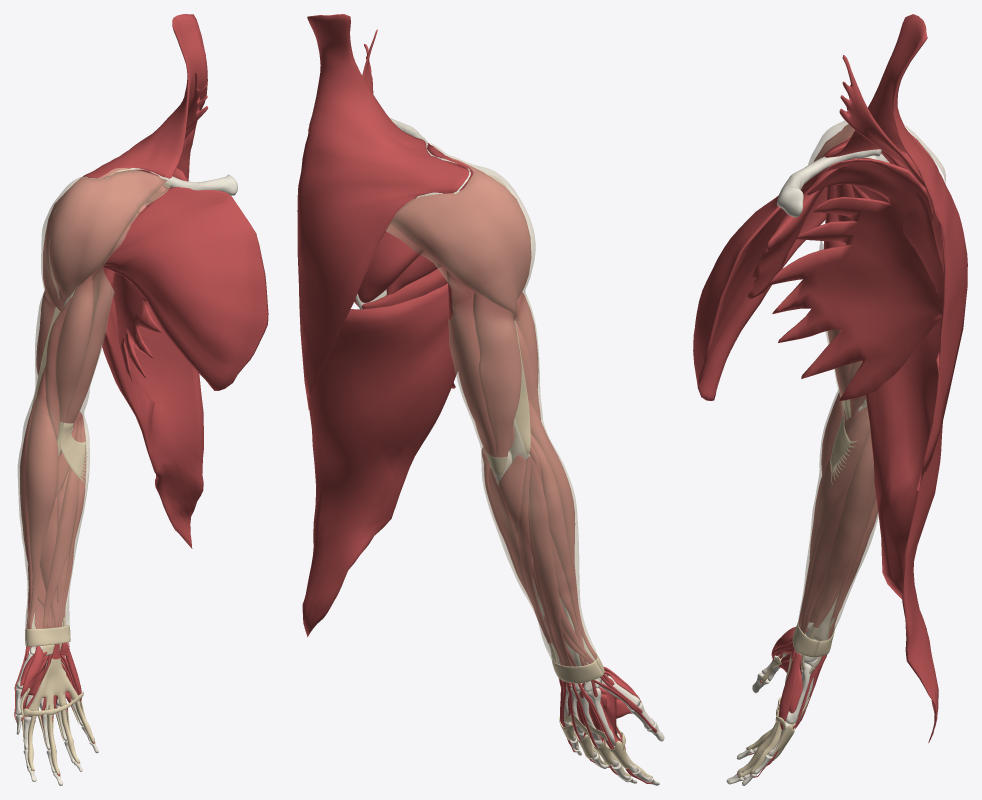
Rendered from upper-limb.glb.
The picture shows the model from 3 angles, left to right: view 1: azimuth 30°, elevation 25°; view 2: azimuth 150°, elevation 25°; view 3: azimuth 270°, elevation 25°; orthographic projection. The views are drawn at different scales.
Visible parts, largest first — view 1: Pectoralis major.r, Brachial fascia.r, Antebrachial fascia.r, Latissimus dorsi.r, Deltoid muscle.r, Trapezius muscle.r, Brachioradialis muscle.r, Long head of biceps brachii.r, Serratus anterior muscle.r, Short head of biceps brachii.r, Flexor carpi radialis.r, Brachialis muscle.r (+11 smaller); view 2: Latissimus dorsi.r, Trapezius muscle.r, Brachial fascia.r, Antebrachial fascia.r, Deltoid muscle.r, Lateral head of triceps brachii.r, Extensor digitorum.r, Long head of triceps brachii.r, Infraspinatus muscle.r, Extensor carpi radialis longus.r, Brachioradialis muscle.r, Humeral head of extensor carpi ulnaris.r (+10 smaller); view 3: Serratus anterior muscle.r, Latissimus dorsi.r, Antebrachial fascia.r, Trapezius muscle.r, Pectoralis major.r, Humeral head of flexor carpi ulnaris.r, Pectoralis minor muscle.r, Palmaris longus muscle.r, Subscapularis muscle.r, Levator scapulae.r, Brachial fascia.r, Clavicle.r (+11 smaller).
Part boxes in pixels (x1=…): Pectoralis major.r: x1=101, y1=186, x2=268, y2=390; Brachial fascia.r: x1=30, y1=168, x2=170, y2=423; Antebrachial fascia.r: x1=17, y1=407, x2=89, y2=628; Latissimus dorsi.r: x1=102, y1=287, x2=203, y2=548; Deltoid muscle.r: x1=43, y1=169, x2=166, y2=311; Trapezius muscle.r: x1=82, y1=14, x2=207, y2=180; Brachioradialis muscle.r: x1=25, y1=367, x2=58, y2=629; Long head of biceps brachii.r: x1=55, y1=275, x2=93, y2=422; Serratus anterior muscle.r: x1=113, y1=168, x2=187, y2=382; Short head of biceps brachii.r: x1=65, y1=266, x2=114, y2=423; Flexor carpi radialis.r: x1=43, y1=411, x2=81, y2=660; Brachialis muscle.r: x1=45, y1=297, x2=75, y2=455; Latissimus dorsi.r: x1=301, y1=283, x2=457, y2=637; Trapezius muscle.r: x1=297, y1=14, x2=469, y2=409; Brachial fascia.r: x1=386, y1=143, x2=546, y2=458; Antebrachial fascia.r: x1=481, y1=432, x2=597, y2=666; Deltoid muscle.r: x1=391, y1=143, x2=531, y2=320; Lateral head of triceps brachii.r: x1=473, y1=293, x2=521, y2=457; Extensor digitorum.r: x1=529, y1=458, x2=637, y2=777; Long head of triceps brachii.r: x1=446, y1=270, x2=496, y2=457; Infraspinatus muscle.r: x1=357, y1=224, x2=423, y2=303; Extensor carpi radialis longus.r: x1=530, y1=433, x2=597, y2=696; Brachioradialis muscle.r: x1=528, y1=400, x2=596, y2=659; Humeral head of extensor carpi ulnaris.r: x1=517, y1=456, x2=551, y2=643; Serratus anterior muscle.r: x1=770, y1=158, x2=943, y2=400; Latissimus dorsi.r: x1=862, y1=319, x2=942, y2=742; Antebrachial fascia.r: x1=798, y1=389, x2=878, y2=641; Trapezius muscle.r: x1=825, y1=14, x2=967, y2=490; Pectoralis major.r: x1=693, y1=172, x2=827, y2=400; Humeral head of flexor carpi ulnaris.r: x1=813, y1=427, x2=874, y2=627; Pectoralis minor muscle.r: x1=747, y1=167, x2=836, y2=299; Palmaris longus muscle.r: x1=791, y1=416, x2=869, y2=659; Subscapularis muscle.r: x1=854, y1=185, x2=943, y2=294; Levator scapulae.r: x1=839, y1=55, x2=925, y2=188; Brachial fascia.r: x1=808, y1=120, x2=945, y2=410; Clavicle.r: x1=777, y1=149, x2=881, y2=217.
Bounding box in the file's own units: 0.3373 × 0.8829 × 0.2481.
